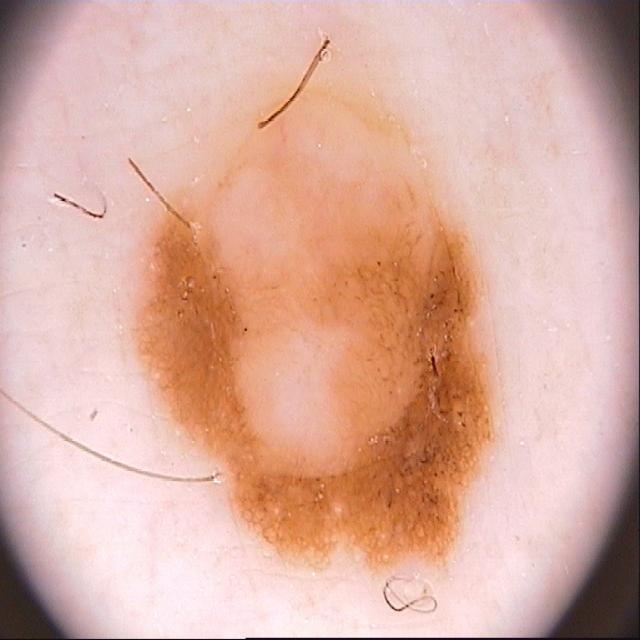Skin-Cancer Nevus: (67, 36, 550, 640)
